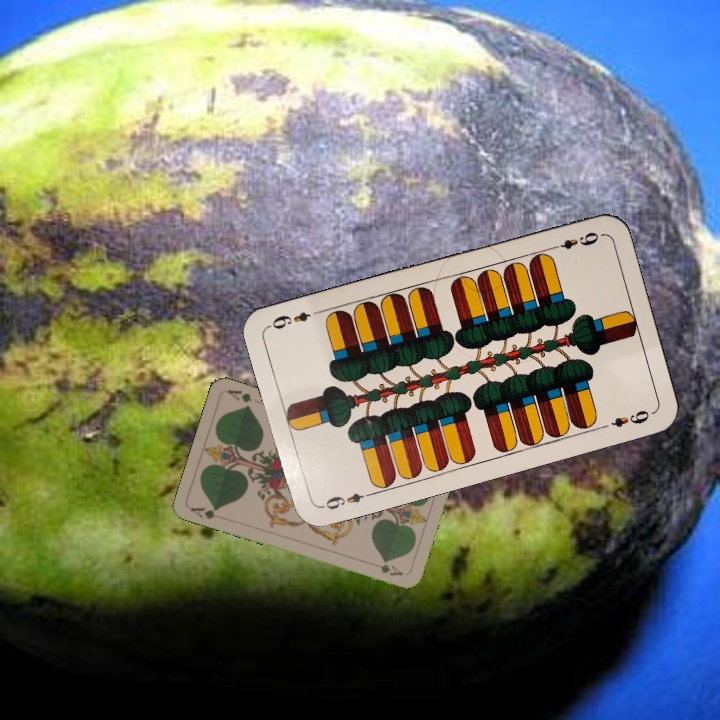E9: (545, 228, 604, 253), (317, 488, 375, 512)
GA: (186, 503, 227, 522)
